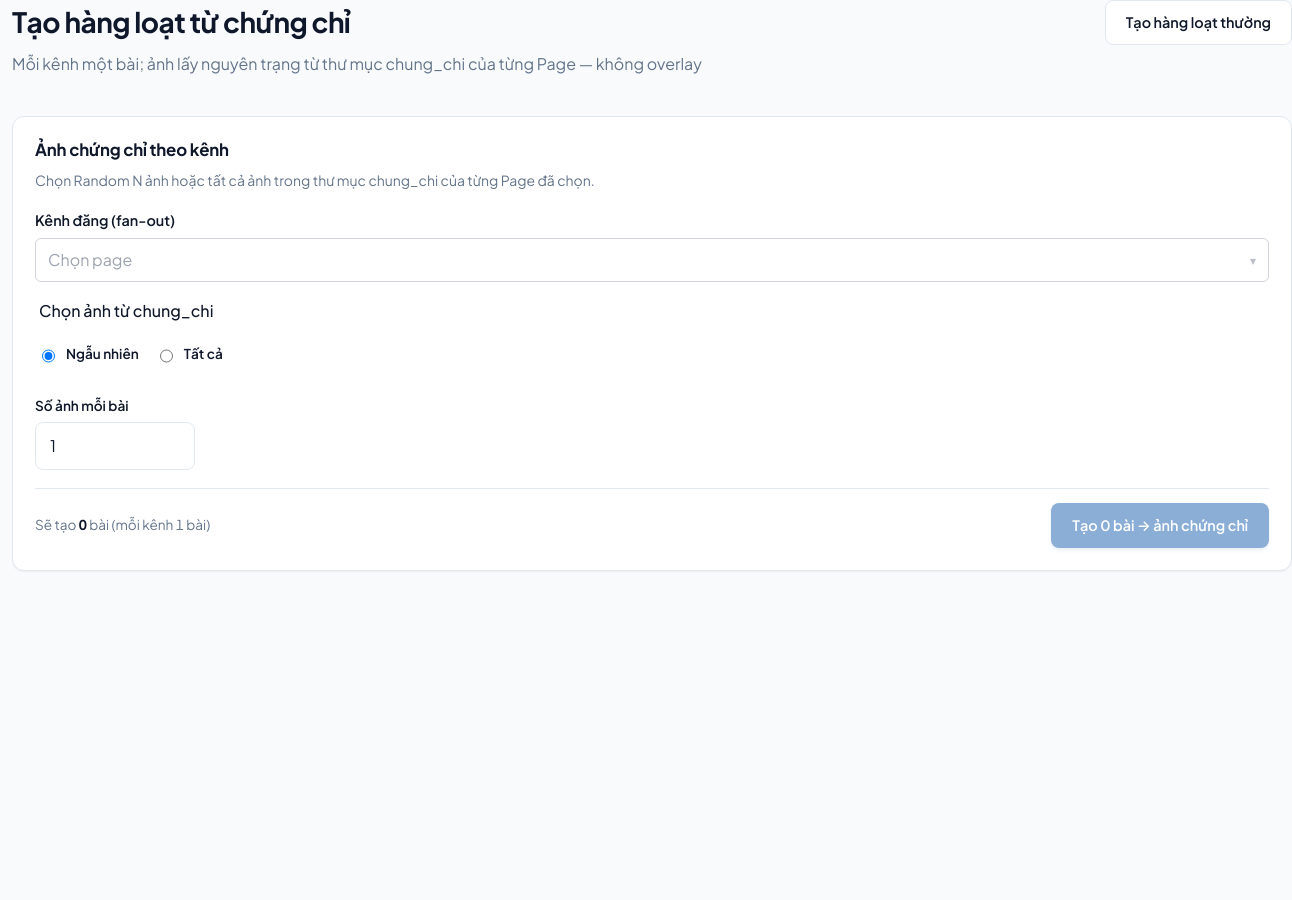
BulkChungChiPage › does not show or require an idea section
Expected: the button "Tạo 0 bài → ảnh chứng chỉ" is disabled, [1051,503,1269,548]
Click the button "Chọn page ▾".
click(90, 260)  # box [35,238,1269,282]
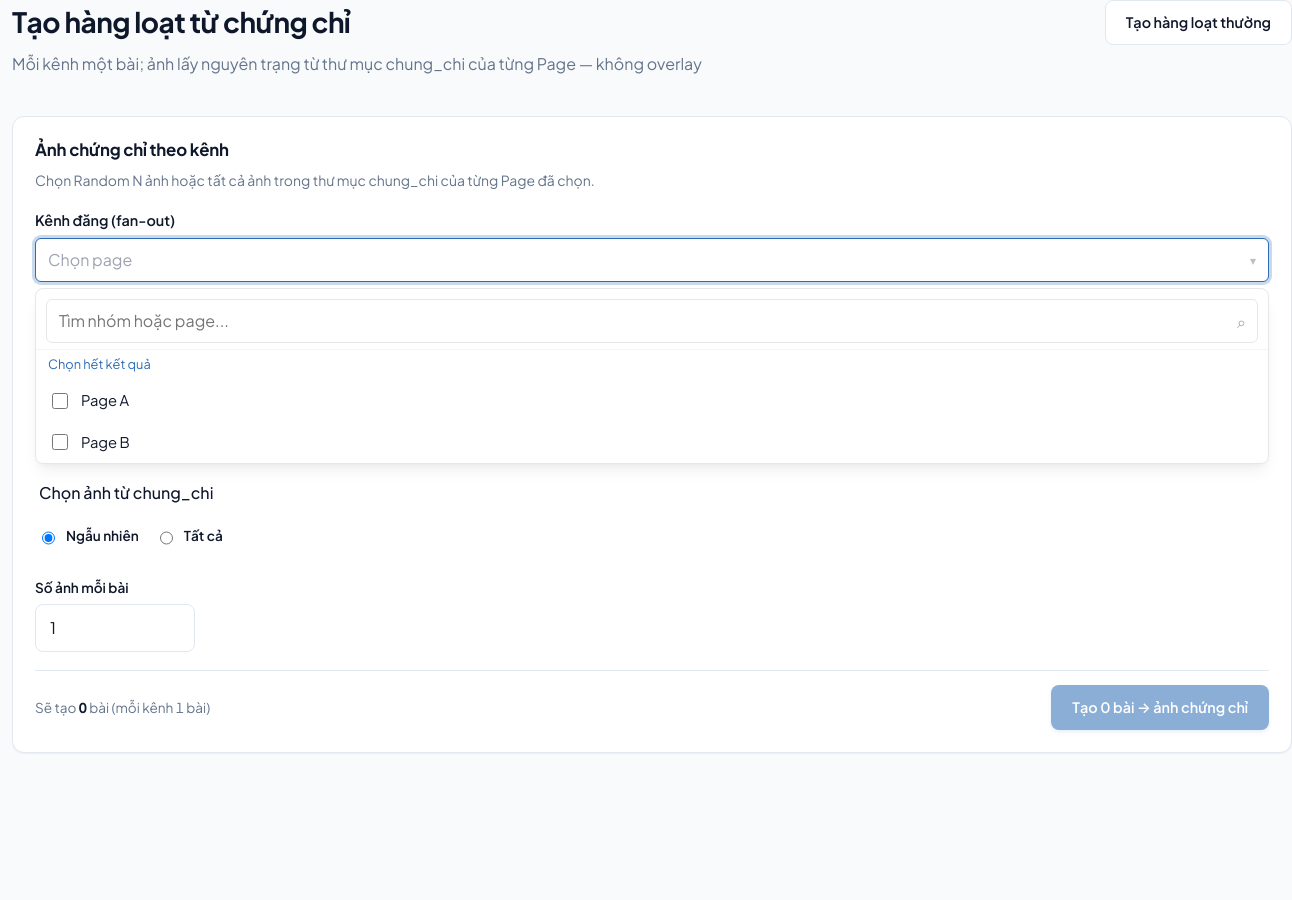
Click the button "Chọn hết kết quả".
click(99, 364)  # box [48,354,151,374]
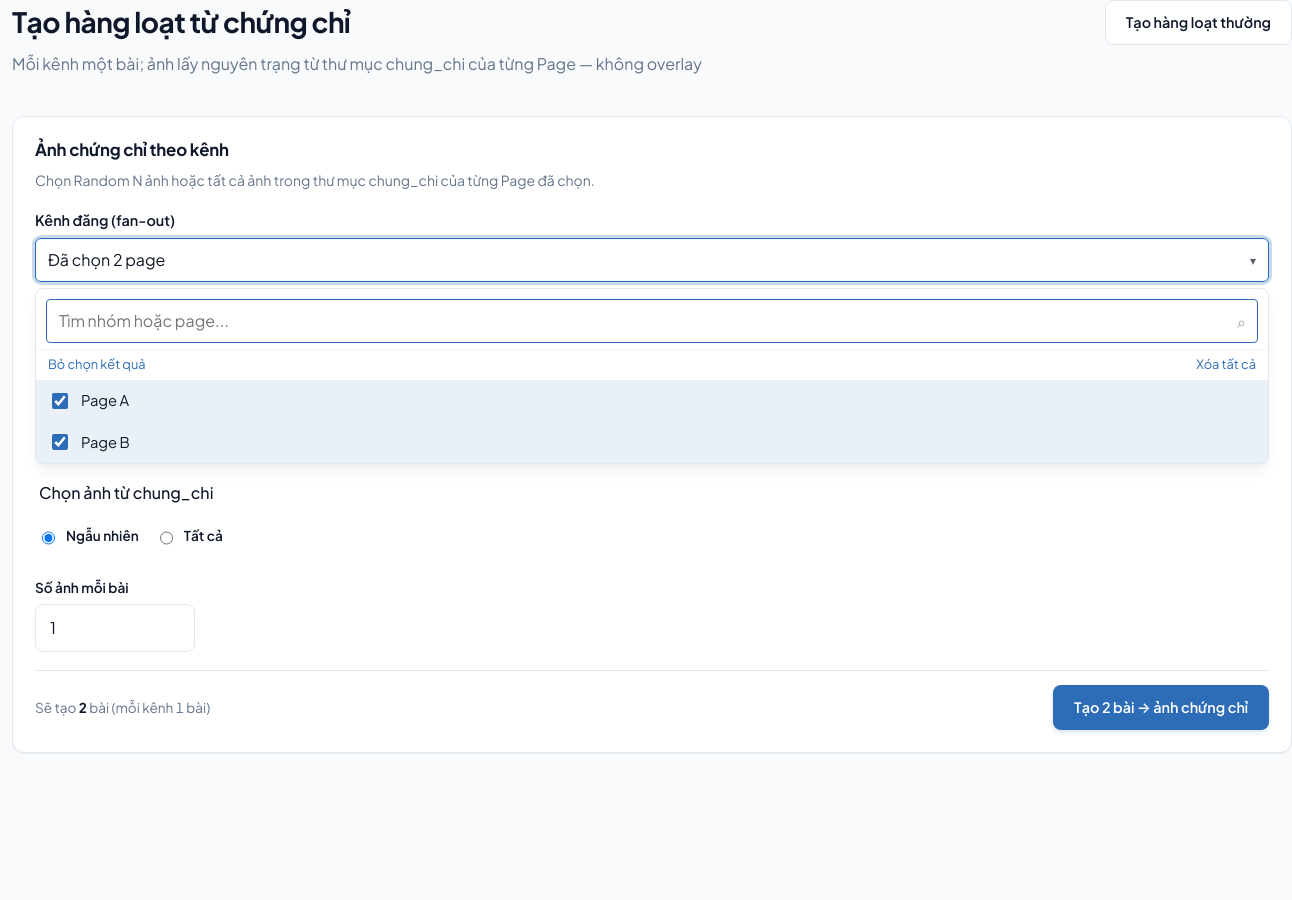
Now the button "Tạo 2 bài → ảnh chứng chỉ" is enabled, box [1053,685,1269,730]
